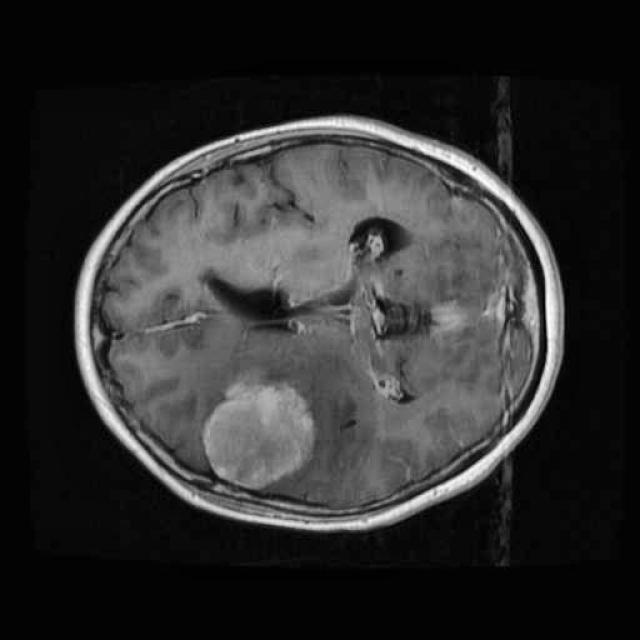Tumor: (193, 364, 328, 500)
